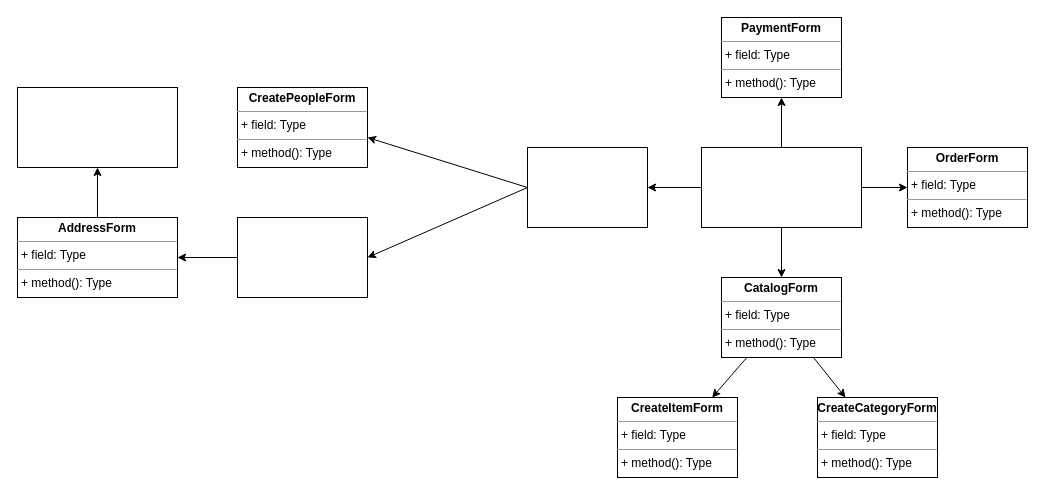
Some shapes in this 1045 by 495 pixel diagram are drawn without their labels. Each missing label, with the centre of its shape:
CreateAddressForm + field: Type + method(): Type: point (97, 127)
MainForm + field: Type + method(): Type: point (781, 187)
ModifyPeopleForm + field: Type + method(): Type: point (302, 257)
PeopleForm + field: Type + method(): Type: point (587, 187)
